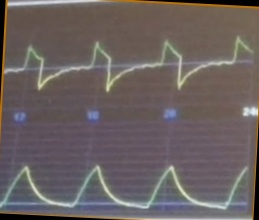Normal Flow: (7, 31, 253, 97)
Normal Volume: (1, 147, 251, 212)
